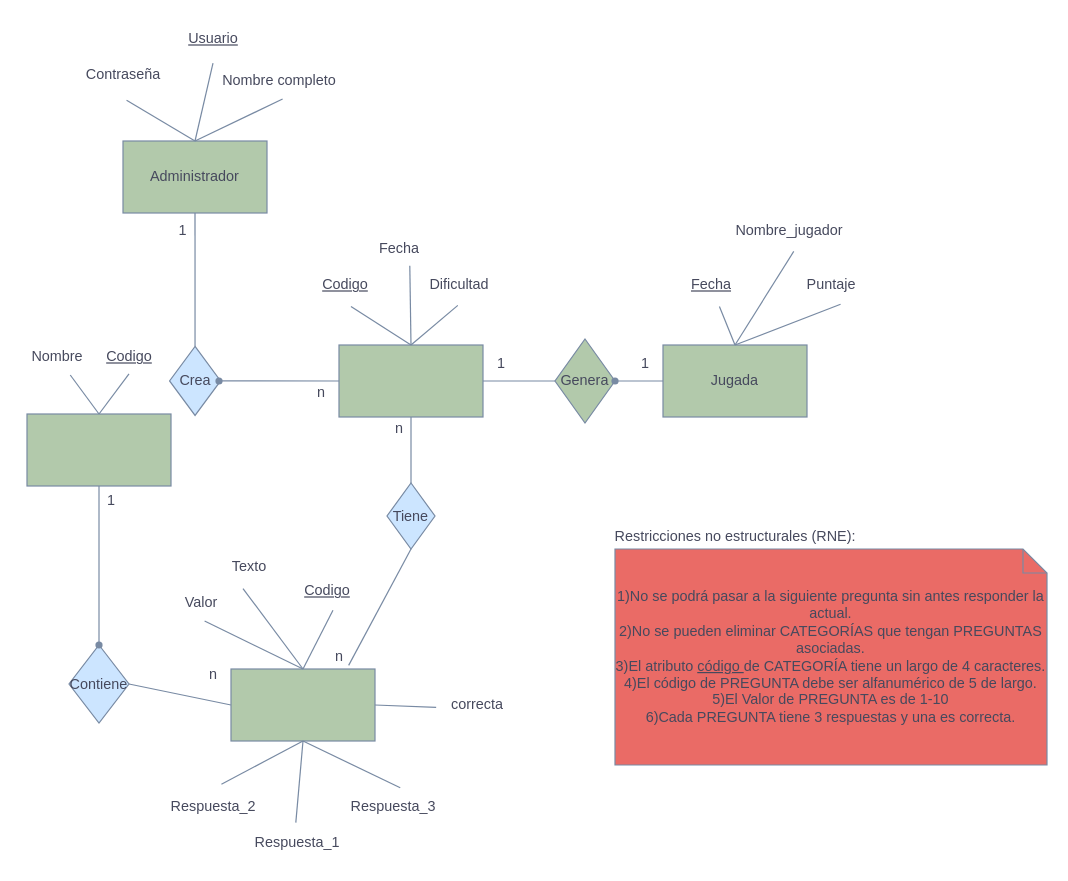
The diagram is 1068 pixels wide and 881 high, and some of its shapes have lost their labels. The centre of each missing label's shape, as x and y in pixels:
"Categoría" belongs at [98,449].
"Juego" belongs at [410,380].
"Pregunta" belongs at [302,704].
